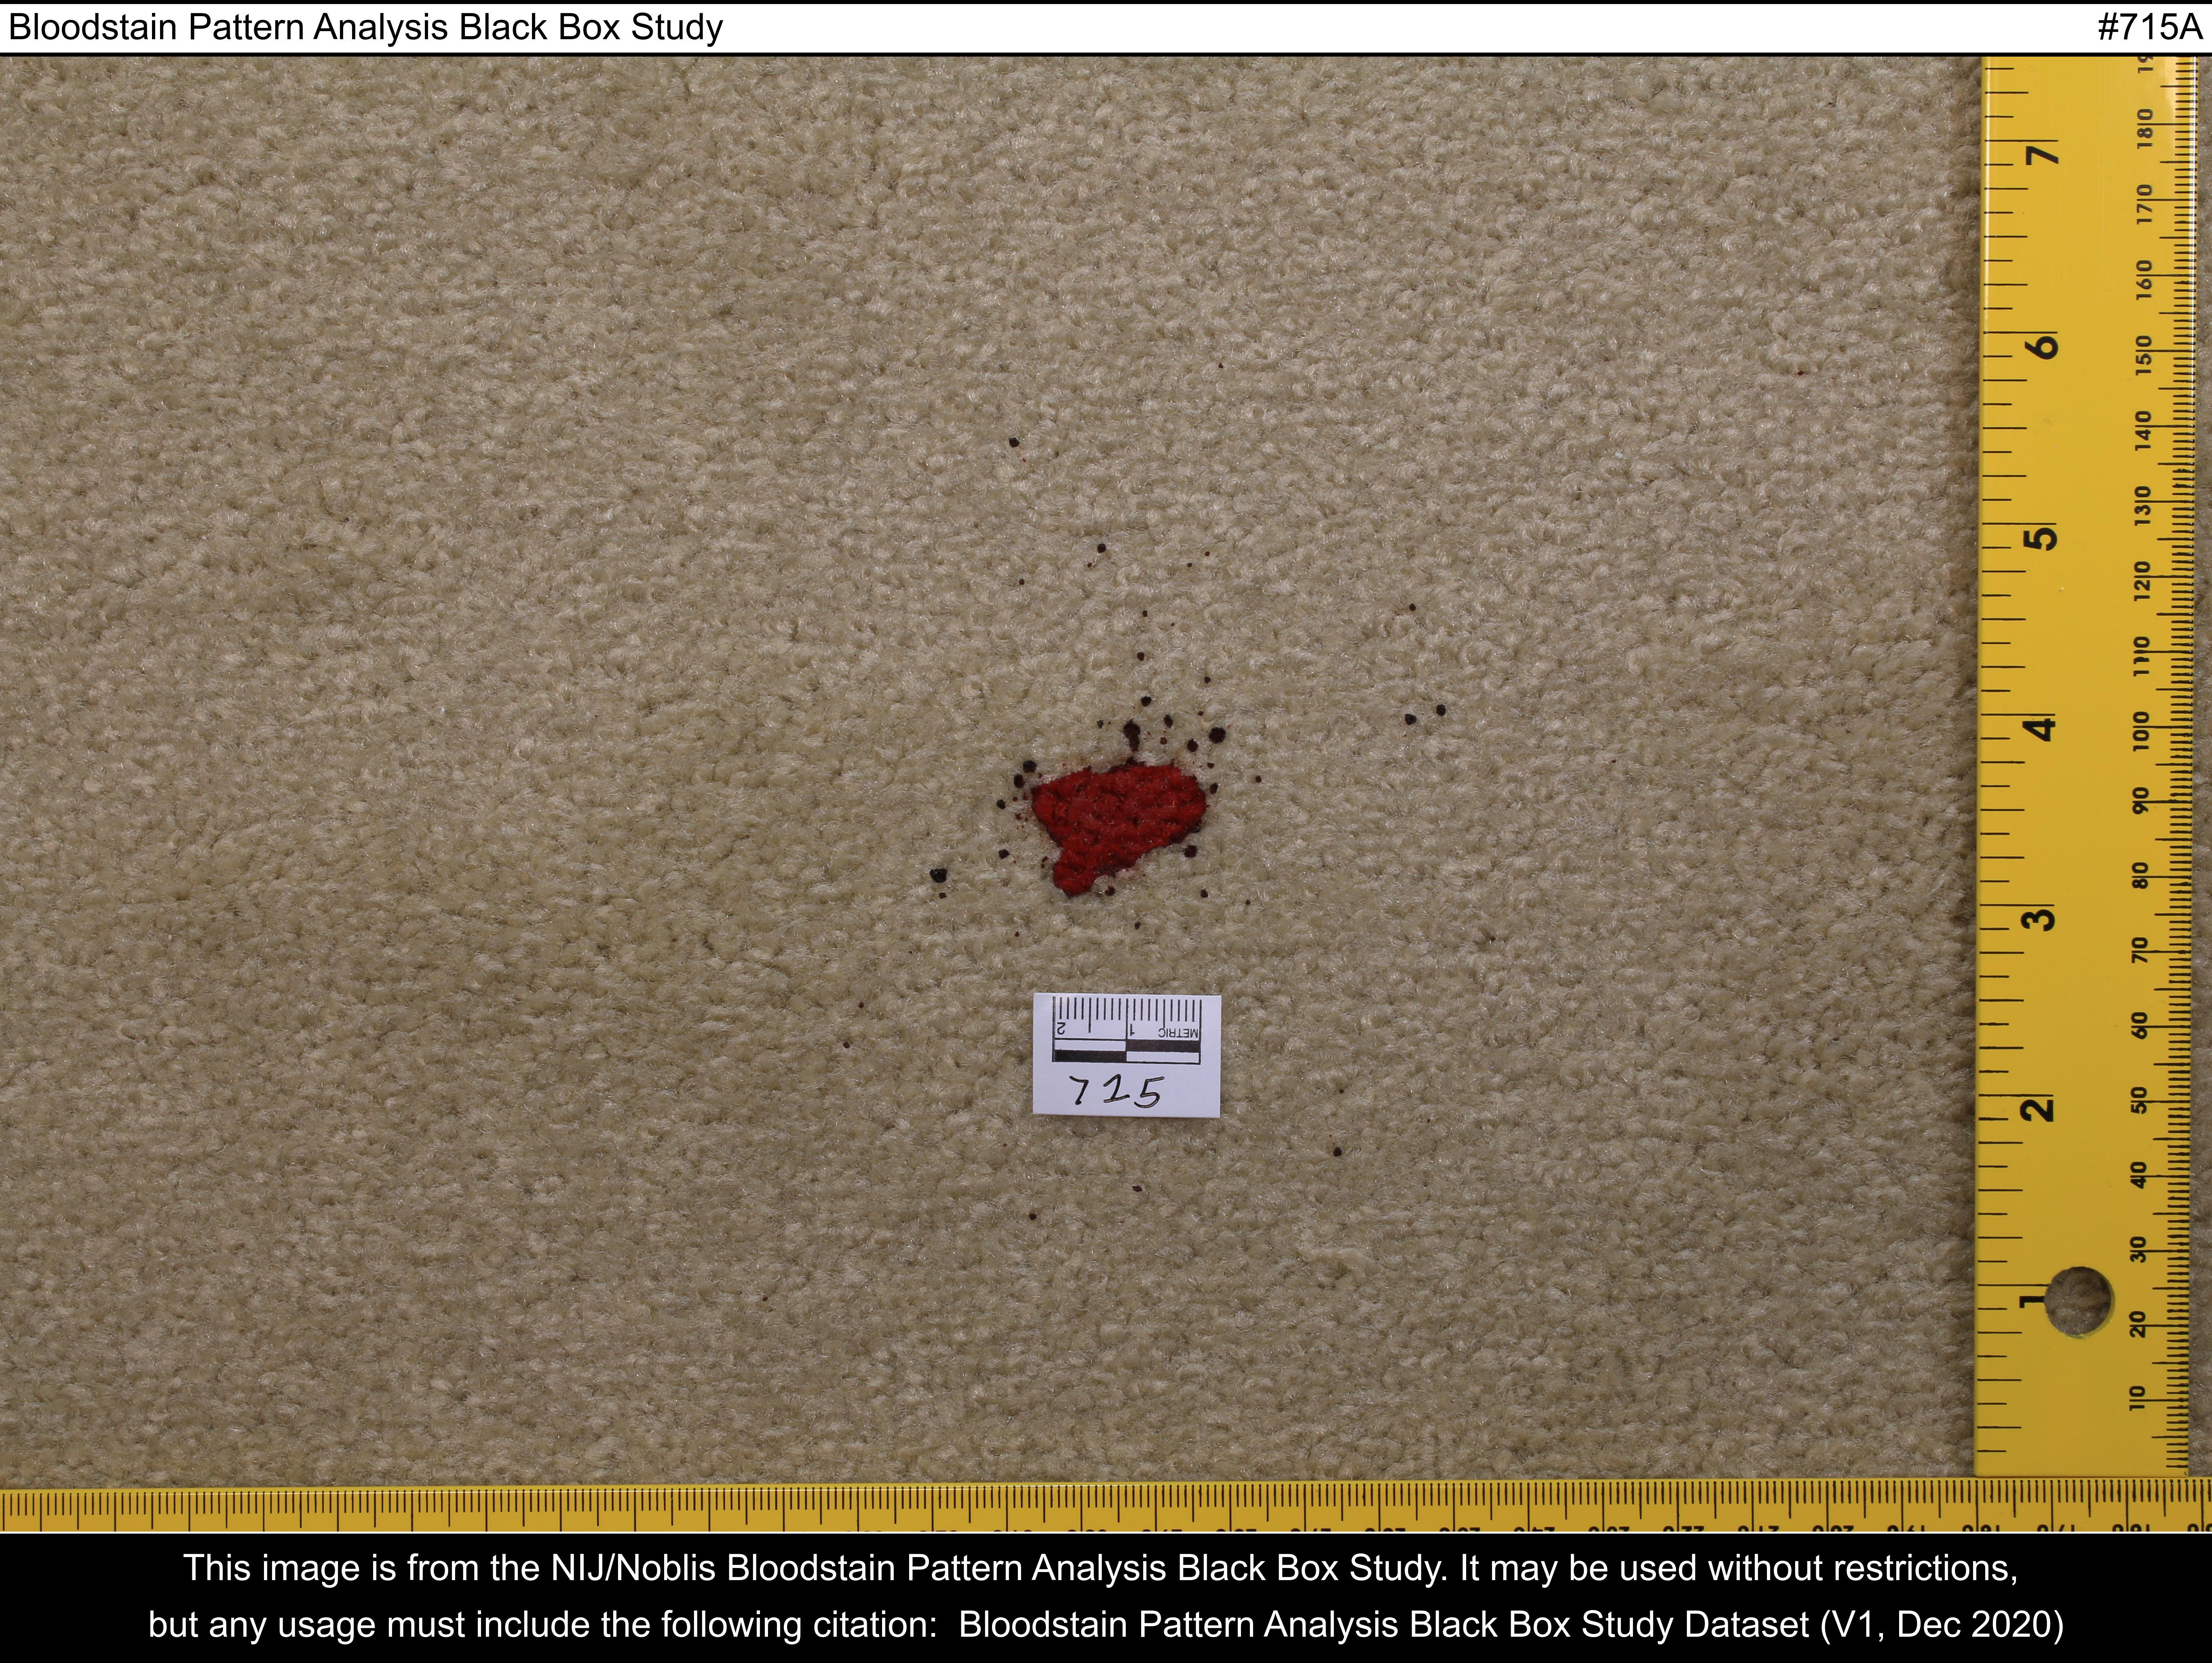Passive: (885, 634, 1306, 956)
